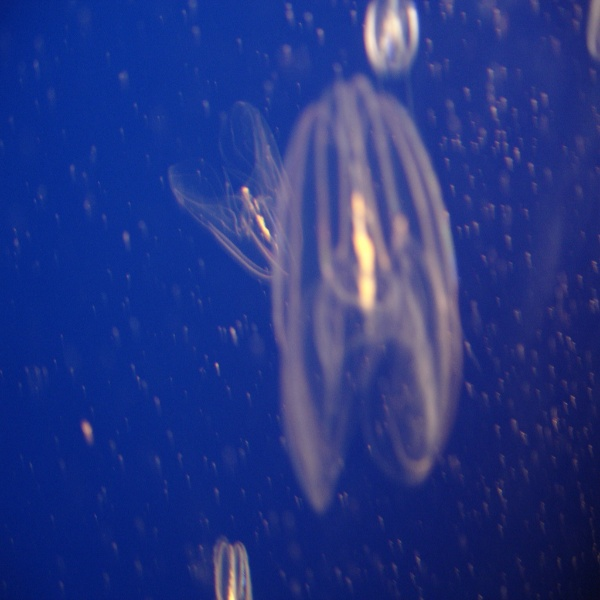Jellyfish: (168, 63, 466, 511)
